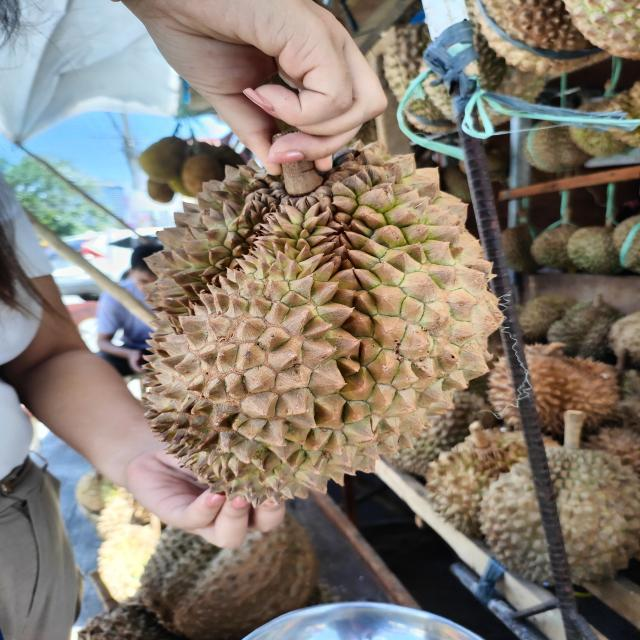mature: (135, 172, 508, 503)
